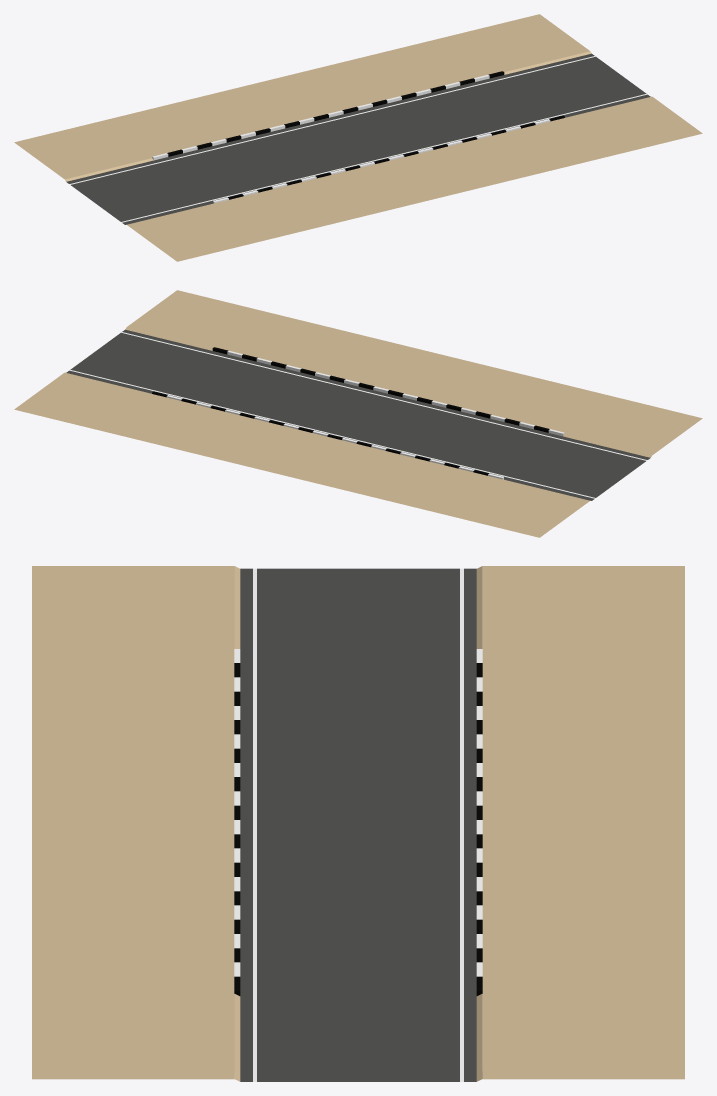
The model's file is straight.fbx.
3 renders of one model, top to bottom at view 1: azimuth 30°, elevation 25°; view 2: azimuth 150°, elevation 25°; view 3: azimuth 270°, elevation 25°, orthographic. The views are drawn at different scales.
Visible parts, largest first — view 1: straight; view 2: straight; view 3: straight.
Part boxes in pixels (x1=…): straight: x1=14, y1=14, x2=702, y2=261; straight: x1=14, y1=290, x2=702, y2=537; straight: x1=32, y1=566, x2=684, y2=1081.
Size of the model in its own units: 3116 by 15.64 by 1676.
